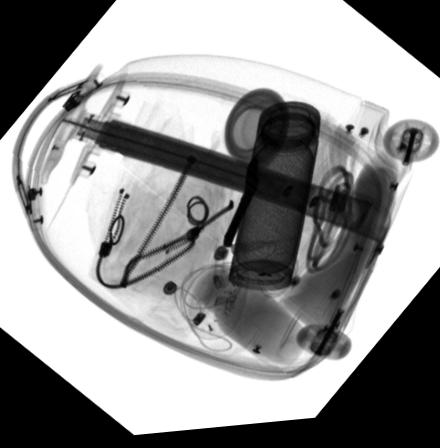Gun: (222, 161, 259, 252)
